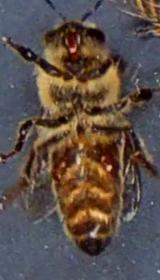varroa_mite: (48, 153, 68, 181), (100, 150, 118, 176)
